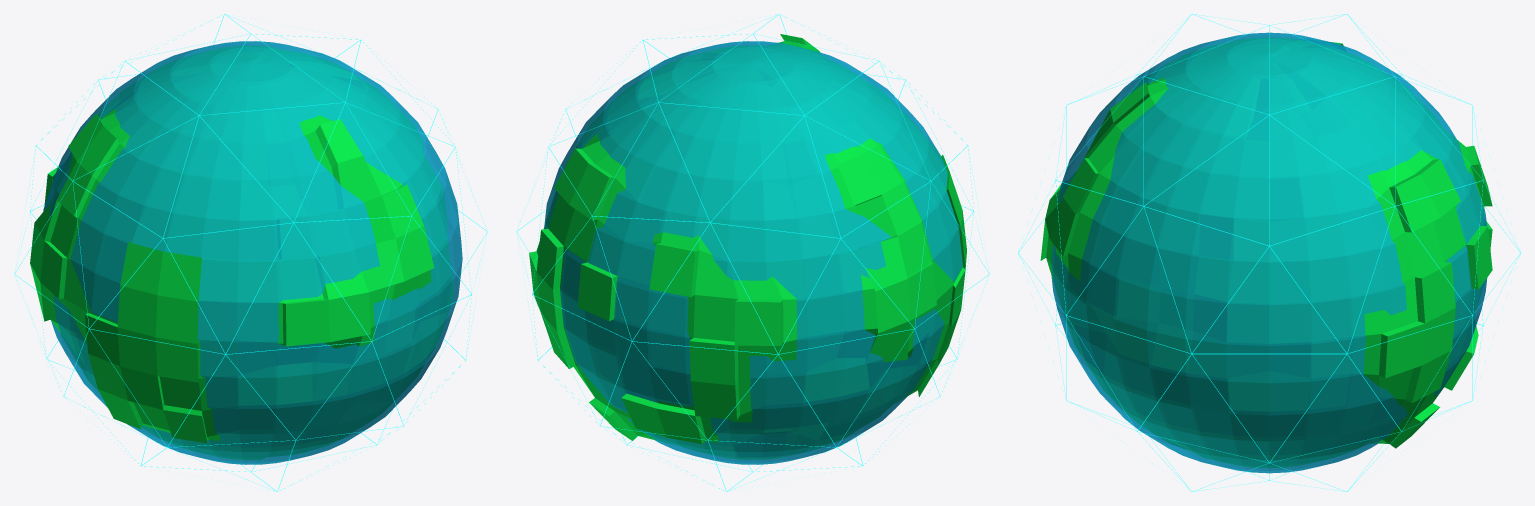
The model's file is ExoplanetWithBarrier-LowPoly.gltf.
The picture shows the model from 3 angles, left to right: view 1: azimuth 30°, elevation 25°; view 2: azimuth 150°, elevation 25°; view 3: azimuth 270°, elevation 25°; orthographic projection. The views are drawn at different scales.
Visible parts, largest first — view 1: Sphere, Sphere.001, Icosphere; view 2: Sphere, Sphere.001, Icosphere; view 3: Sphere, Sphere.001, Icosphere.
Part boxes in pixels (x1=…): Sphere: x1=30, y1=46, x2=453, y2=459; Sphere.001: x1=43, y1=41, x2=462, y2=464; Icosphere: x1=14, y1=14, x2=487, y2=491; Sphere: x1=529, y1=34, x2=966, y2=459; Sphere.001: x1=544, y1=41, x2=962, y2=464; Icosphere: x1=516, y1=14, x2=989, y2=491; Sphere: x1=1040, y1=37, x2=1492, y2=467; Sphere.001: x1=1051, y1=32, x2=1487, y2=473; Icosphere: x1=1018, y1=14, x2=1520, y2=491.
Bounding box in the file's own units: 3.74 × 3.94 × 3.94.
